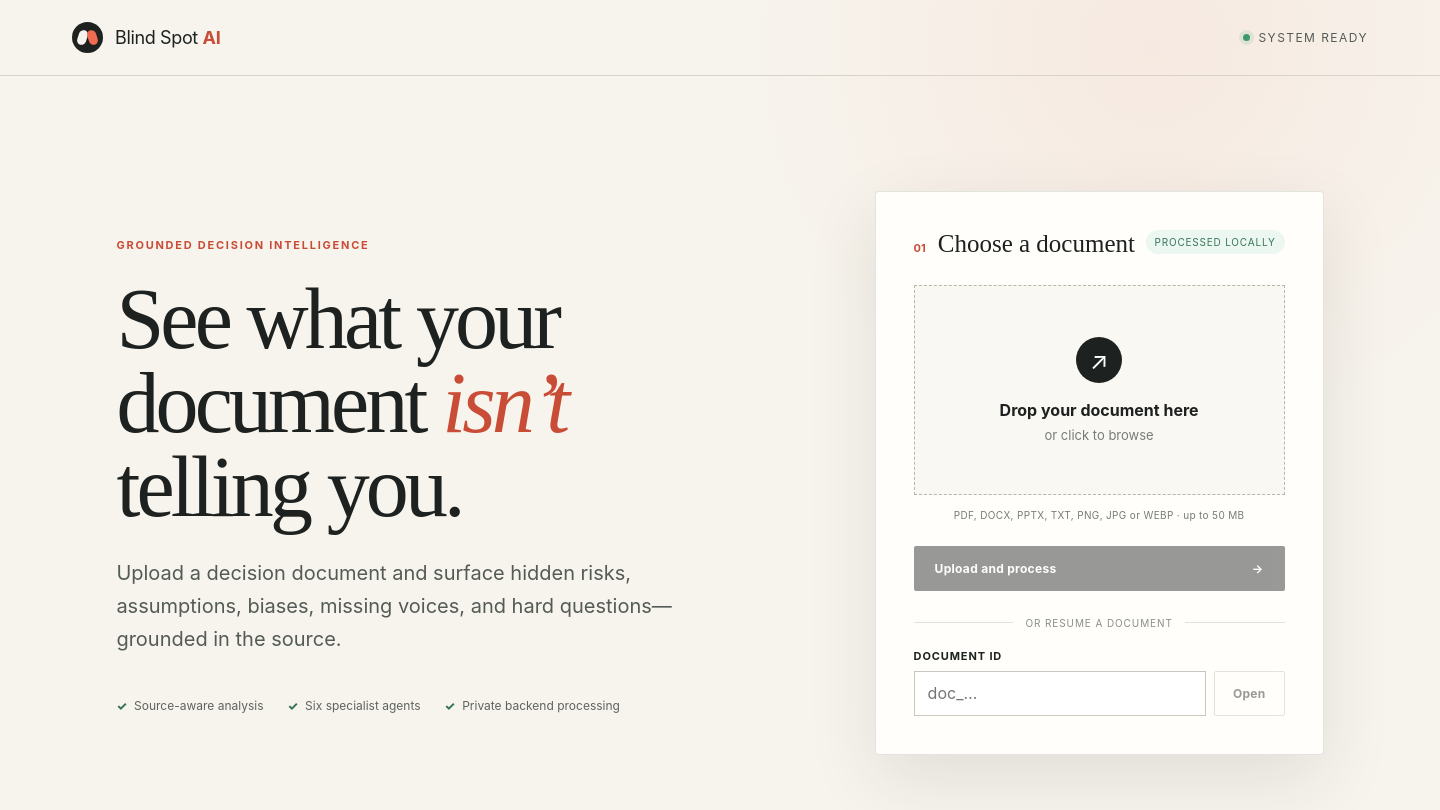
Test: Blind Spot AI workspace › shows a safe unavailable state for visual processing
This screenshot has width=1440, height=810.
Type "doc_visual-123" into the field labelled "Document ID" at [1060, 693], box [914, 671, 1206, 716]
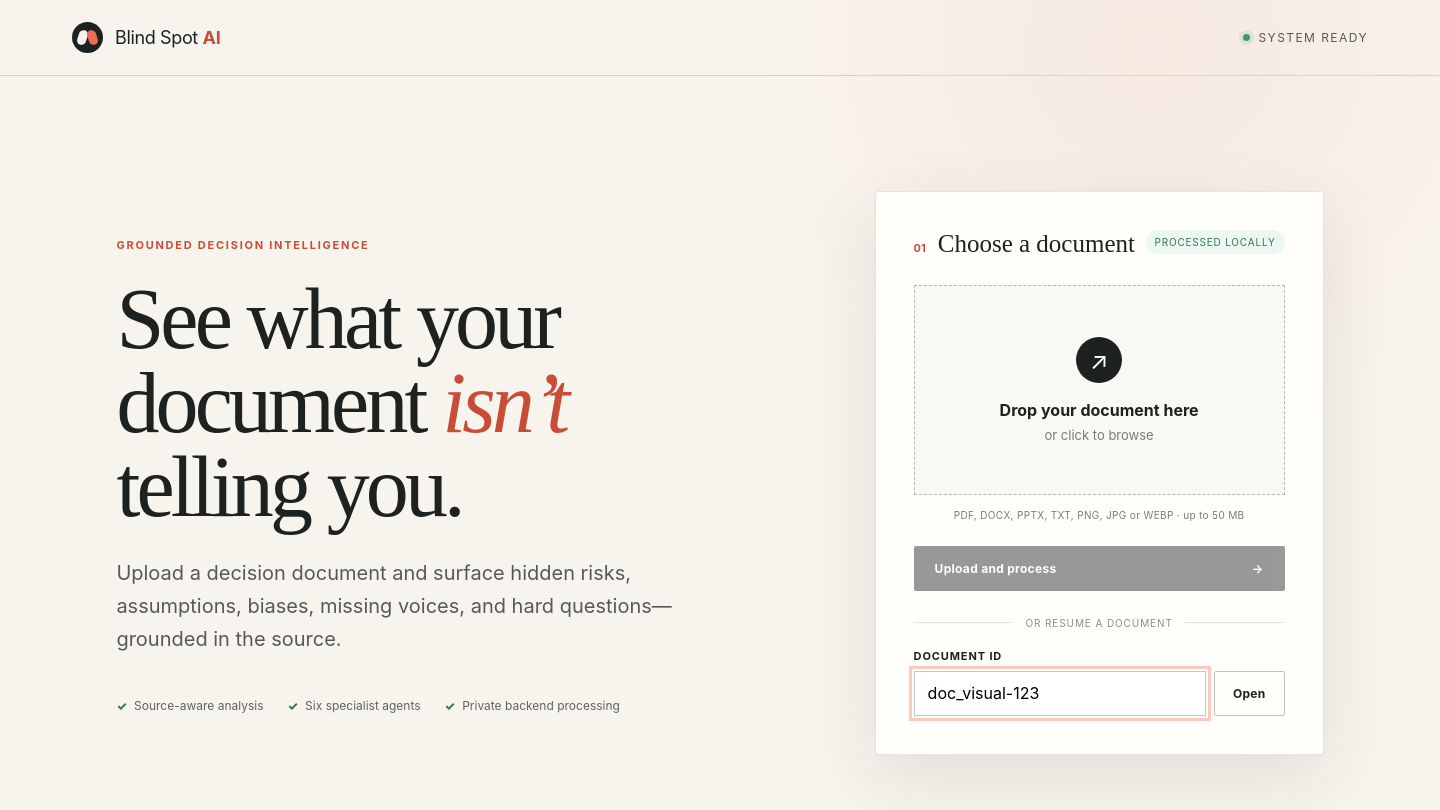
Click the button "Open" at [1249, 693], box [1214, 671, 1285, 716]
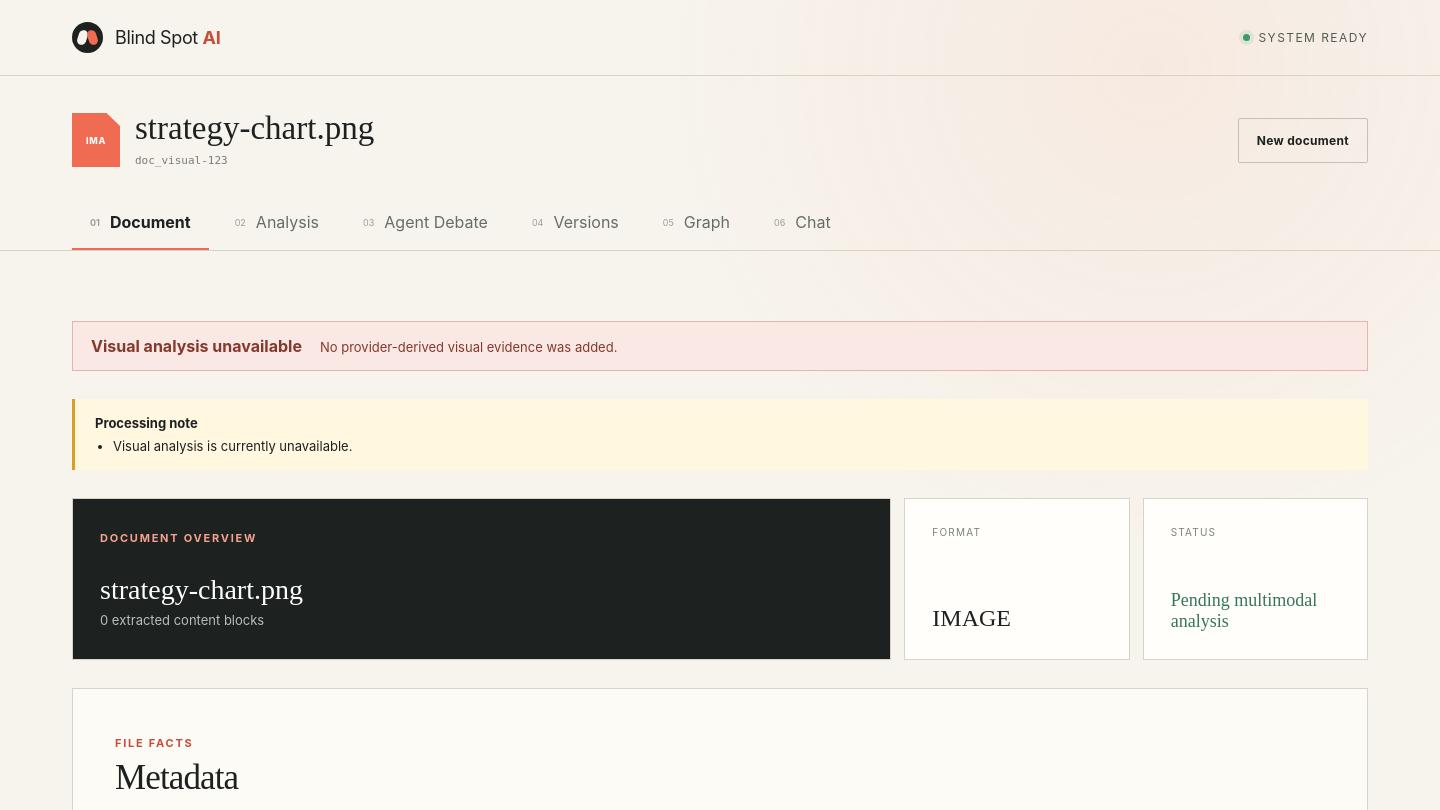
Now the text "Visual analysis unavailable" is shown, box [91, 336, 302, 356]
Now the list item "Visual analysis is currently unavailable." is shown, box [113, 438, 352, 454]
